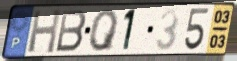1: (120, 8, 138, 53)
3: (155, 8, 181, 52)
5: (183, 6, 211, 52)
B: (54, 9, 88, 54)
H: (26, 8, 63, 55)
Q: (88, 8, 120, 53)
